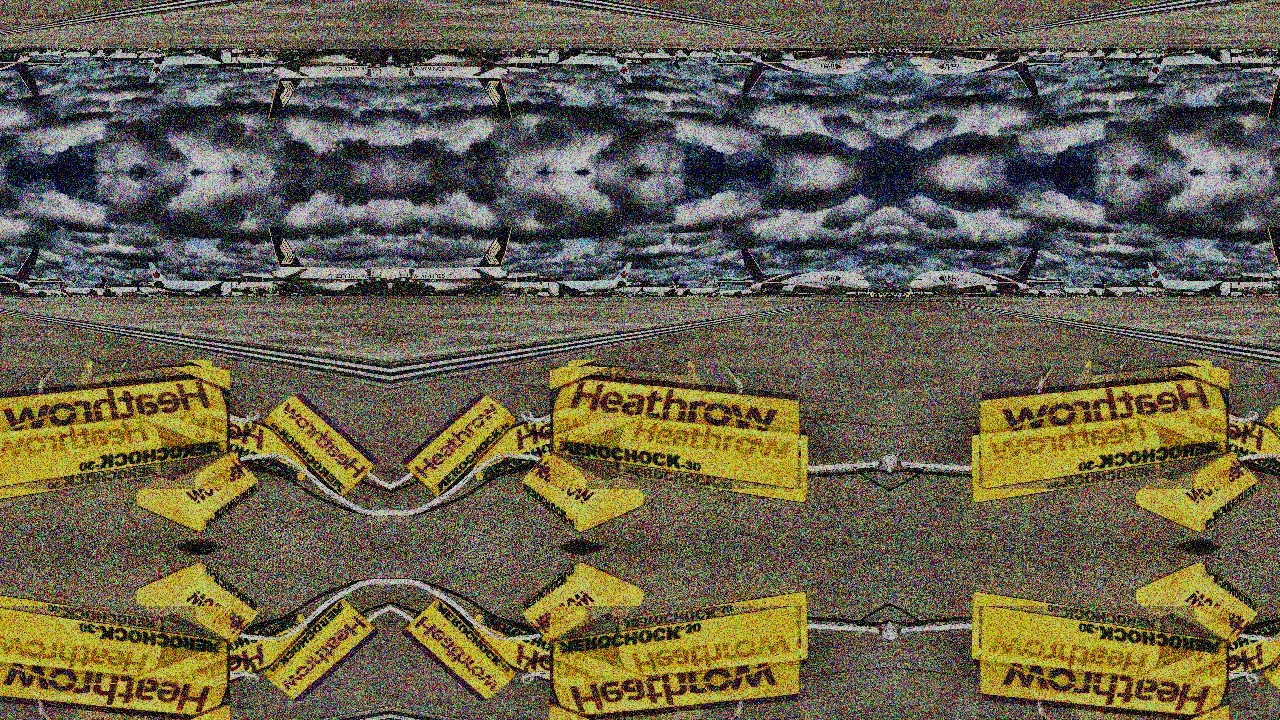chock: (550, 367, 801, 489), (979, 367, 1230, 489), (73, 357, 312, 481), (468, 357, 707, 481), (550, 606, 801, 720), (979, 606, 1230, 720), (0, 367, 230, 489), (0, 606, 230, 720), (1073, 357, 1280, 481), (73, 614, 312, 720), (468, 614, 707, 720), (1073, 614, 1280, 720), (617, 410, 809, 503), (971, 410, 1163, 503), (617, 592, 809, 685), (971, 592, 1163, 685), (0, 410, 163, 503), (0, 592, 163, 685), (264, 390, 381, 497), (399, 390, 516, 497), (264, 598, 381, 705), (399, 598, 516, 705), (135, 448, 259, 534), (521, 448, 645, 534), (1135, 448, 1259, 534), (135, 561, 259, 647), (521, 561, 645, 647), (1135, 561, 1259, 647), (92, 360, 212, 418), (568, 360, 688, 418), (1092, 360, 1212, 418), (92, 677, 212, 720), (568, 677, 688, 720), (1092, 677, 1212, 720), (1264, 390, 1280, 497), (1264, 598, 1280, 705)
